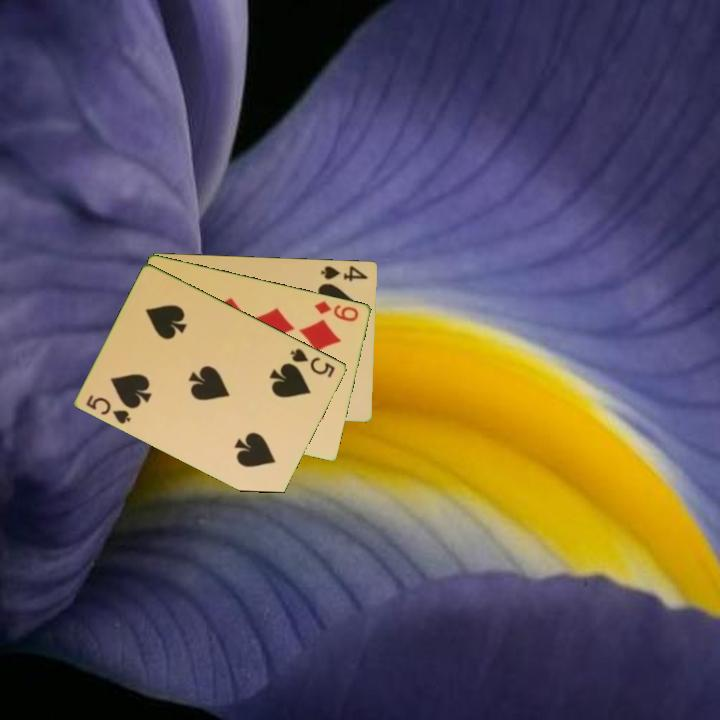4s: (318, 262, 371, 284)
5s: (287, 344, 338, 381), (83, 391, 134, 427)
9d: (311, 297, 362, 324)
